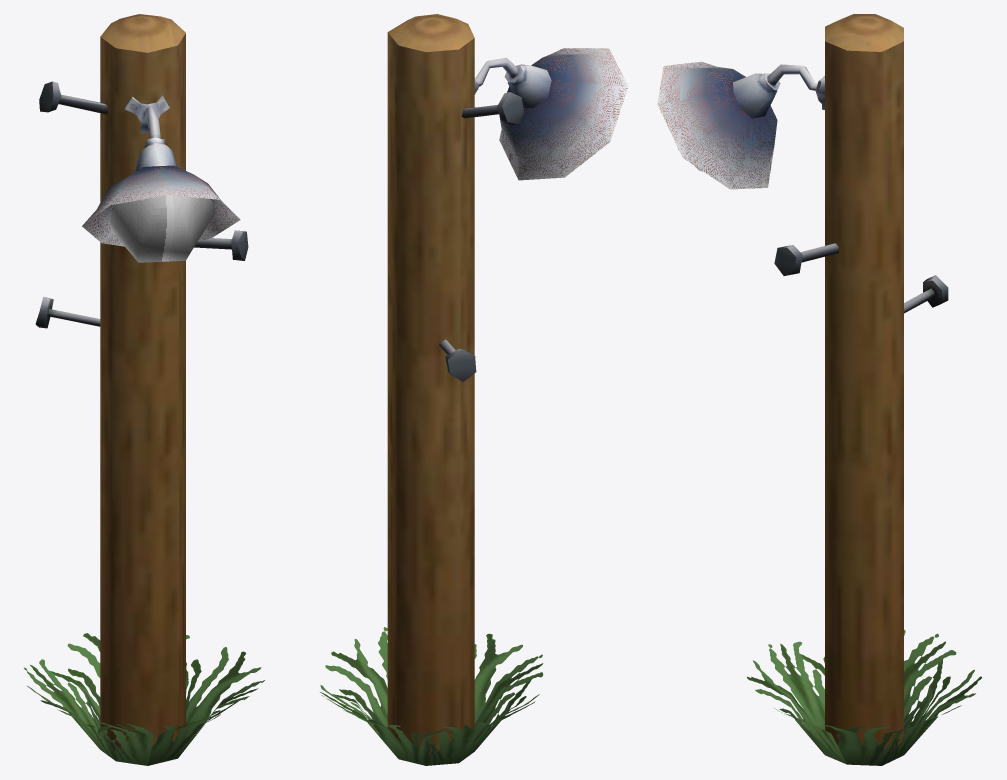
The model's file is fobj_lamp_retro.obj.
3 views of the same model, side by side, from view 1: azimuth 30°, elevation 25°; view 2: azimuth 150°, elevation 25°; view 3: azimuth 270°, elevation 25° (orthographic).
Visible parts, largest first — view 1: vsn_mesh_0__mesh_0_.005, vsn_mesh_1__mesh_1_.003; view 2: vsn_mesh_0__mesh_0_.005; view 3: vsn_mesh_0__mesh_0_.005.
Boxes of the visible parts, x1,y1,x2,y2 form: vsn_mesh_0__mesh_0_.005: (24, 14, 264, 765); vsn_mesh_1__mesh_1_.003: (106, 195, 215, 262); vsn_mesh_0__mesh_0_.005: (320, 14, 628, 765); vsn_mesh_0__mesh_0_.005: (657, 14, 981, 765).
Size of the model in its own units: 26.02 by 78.68 by 32.83.
2 materials, 2 textured.
